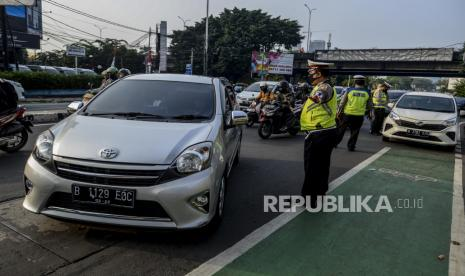plate: (73, 184, 134, 209), (408, 129, 428, 137), (264, 104, 273, 109)
